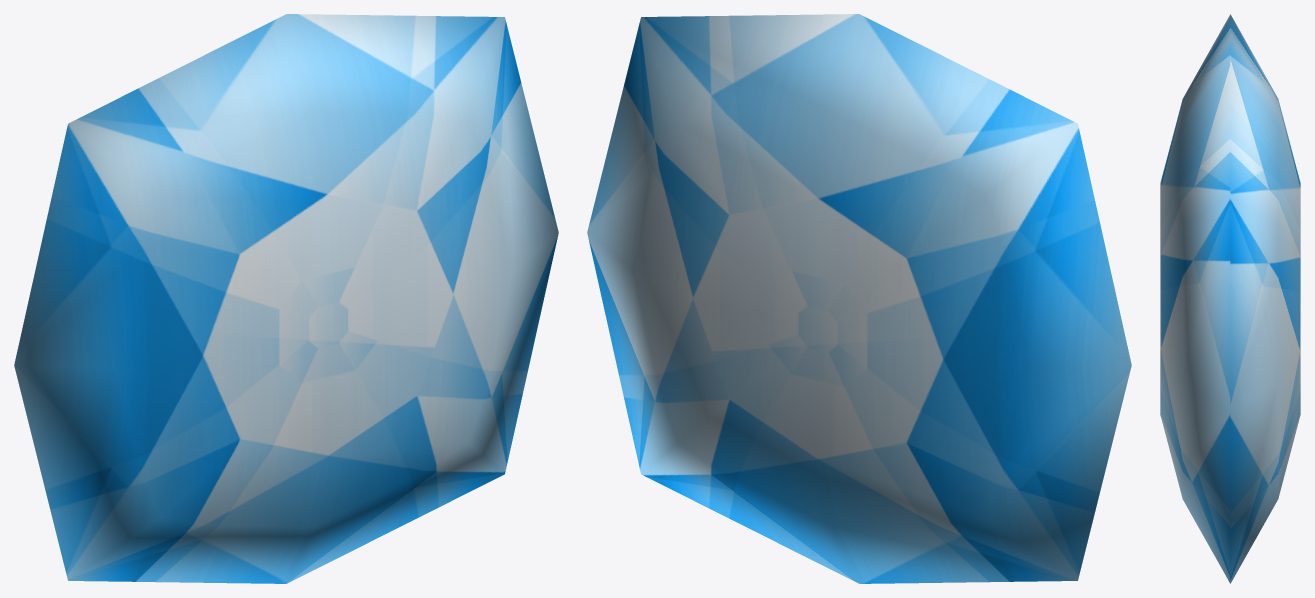
The model's file is Gem-Cushion.fbx.
3 renders of one model, left to right at view 1: azimuth 30°, elevation 25°; view 2: azimuth 150°, elevation 25°; view 3: azimuth 270°, elevation 25°, orthographic. The views are drawn at different scales.
Visible parts, largest first — view 1: Gem-Cushion; view 2: Gem-Cushion; view 3: Gem-Cushion.
Part boxes in pixels (x1,y1,x2,y2): Gem-Cushion: [14, 14, 558, 583]; Gem-Cushion: [587, 14, 1131, 583]; Gem-Cushion: [1160, 14, 1300, 583].
Bounding box in the file's own units: 1.66 × 1.66 × 0.4361.
